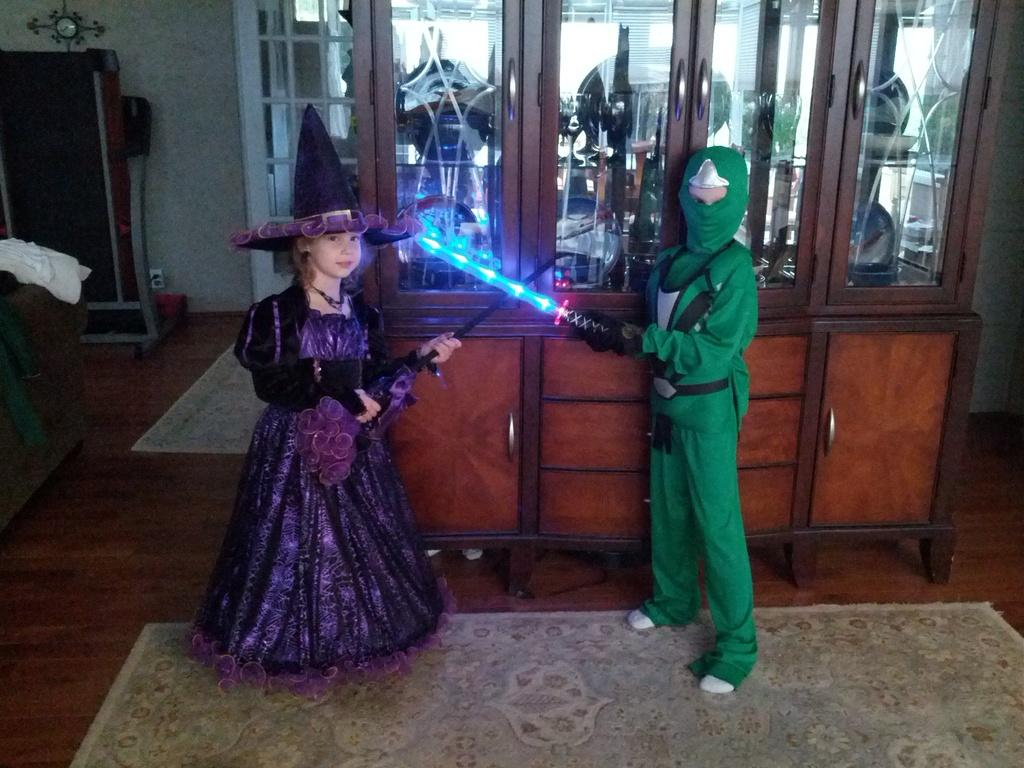Sword: (412, 231, 628, 340)
